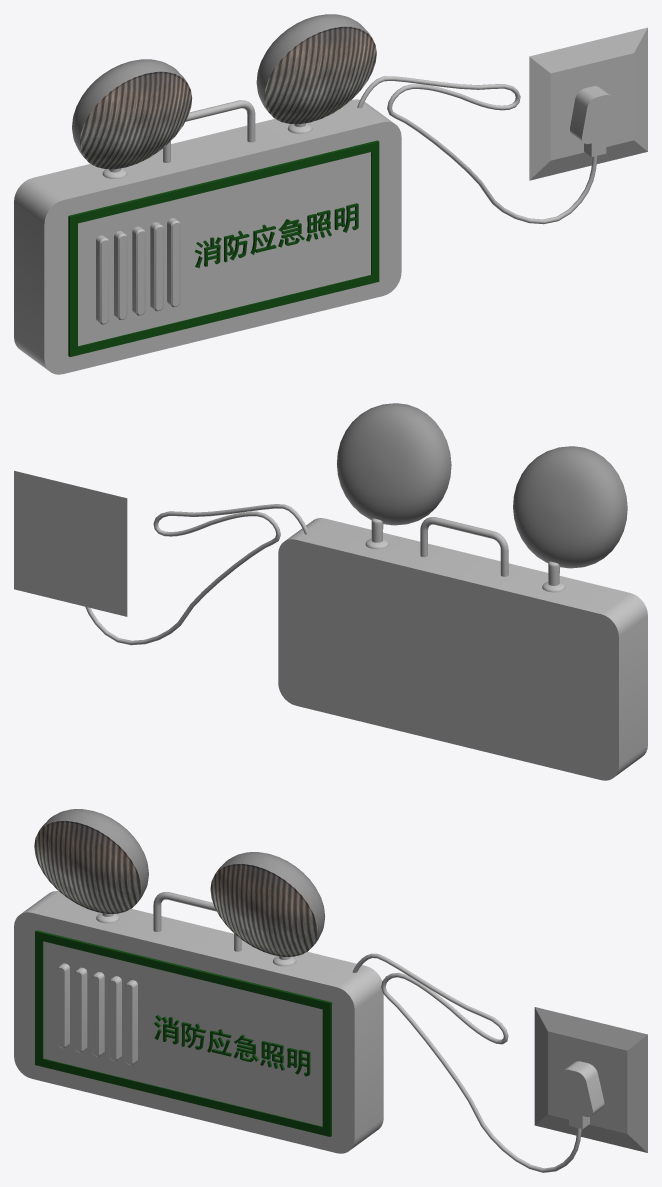
Rendered from deng.FBX.
The picture shows the model from 3 angles, top to bottom: view 1: azimuth 30°, elevation 25°; view 2: azimuth 150°, elevation 25°; view 3: azimuth 330°, elevation 25°; orthographic projection. The views are drawn at different scales.
Parts seen in each view (by area): view 1: pp0221, pp0249, pp0262, pp1108, pp1348, pp0240, pp0203, pp0246, pp0217, pp0254, pp0255, pp0253 (+3 smaller); view 2: pp0221, pp0262, pp1108, pp1348, pp0203, pp0222; view 3: pp0221, pp0249, pp0262, pp1108, pp1348, pp0240, pp0203, pp0246, pp0217, pp0252, pp0253, pp0255 (+3 smaller).
Boxes of the visible parts, bbox=[...] form: pp0221: bbox=[14, 99, 401, 374]; pp0249: bbox=[78, 152, 370, 346]; pp0262: bbox=[529, 27, 647, 180]; pp1108: bbox=[72, 59, 192, 169]; pp1348: bbox=[256, 14, 376, 124]; pp0240: bbox=[68, 140, 379, 356]; pp0203: bbox=[357, 76, 597, 224]; pp0246: bbox=[195, 203, 358, 268]; pp0217: bbox=[570, 86, 621, 144]; pp0254: bbox=[132, 226, 145, 315]; pp0255: bbox=[167, 218, 180, 307]; pp0253: bbox=[150, 222, 163, 311]; pp0221: bbox=[278, 518, 647, 780]; pp0262: bbox=[14, 470, 127, 616]; pp1108: bbox=[513, 446, 627, 568]; pp1348: bbox=[337, 403, 451, 525]; pp0203: bbox=[85, 504, 309, 645]; pp0222: bbox=[420, 517, 508, 576]; pp0221: bbox=[14, 891, 383, 1153]; pp0249: bbox=[43, 941, 322, 1126]; pp0262: bbox=[534, 1007, 647, 1152]; pp1108: bbox=[34, 809, 148, 913]; pp1348: bbox=[210, 852, 325, 956]; pp0240: bbox=[35, 930, 331, 1136]; pp0203: bbox=[352, 953, 581, 1172]; pp0246: bbox=[154, 1015, 310, 1076]; pp0217: bbox=[554, 1061, 604, 1117]; pp0252: bbox=[75, 967, 87, 1052]; pp0253: bbox=[109, 976, 121, 1060]; pp0255: bbox=[125, 980, 137, 1064].
Size of the model in its own units: 272 by 124 by 35.96.
4 materials, 1 textured.
